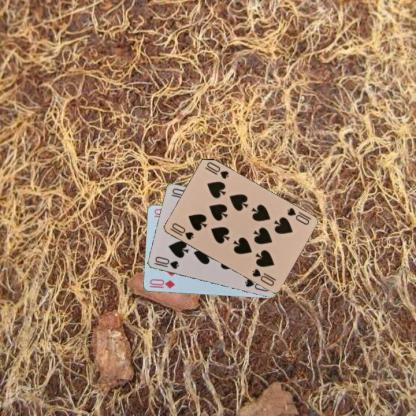10d: (147, 277, 176, 290)
10s: (167, 220, 195, 242), (284, 205, 310, 227), (152, 254, 180, 270)
